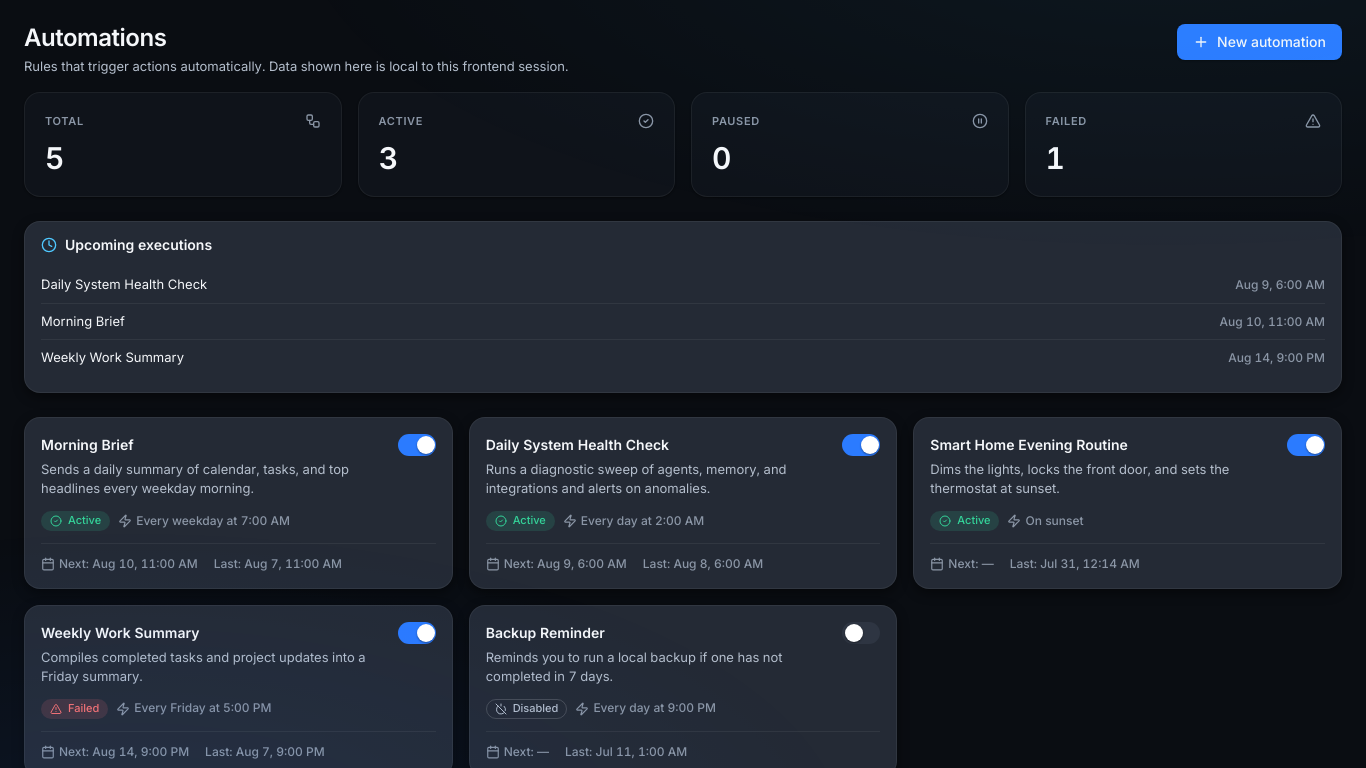
Test case: AutomationsPage › opens the detail drawer, pauses an active automation, and reflects the new status
Later steps or results of the test are not shown.
Click the button with test id "automation-card-auto-1": (87, 444) 24,417 -> 453,589
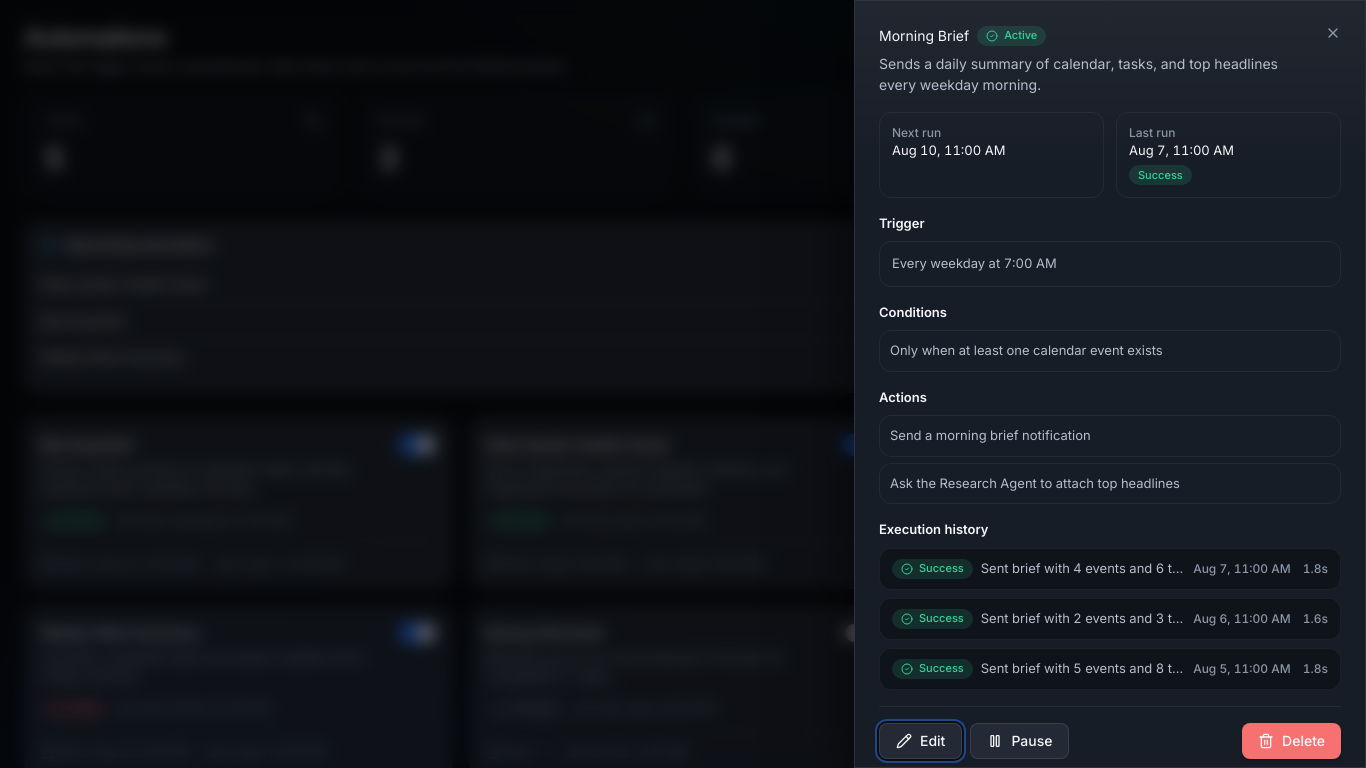
Now the heading "Morning Brief" is shown, box 879,25 -> 969,47
Now the list with test id "execution-history-list" is shown, box 879,548 -> 1341,690
